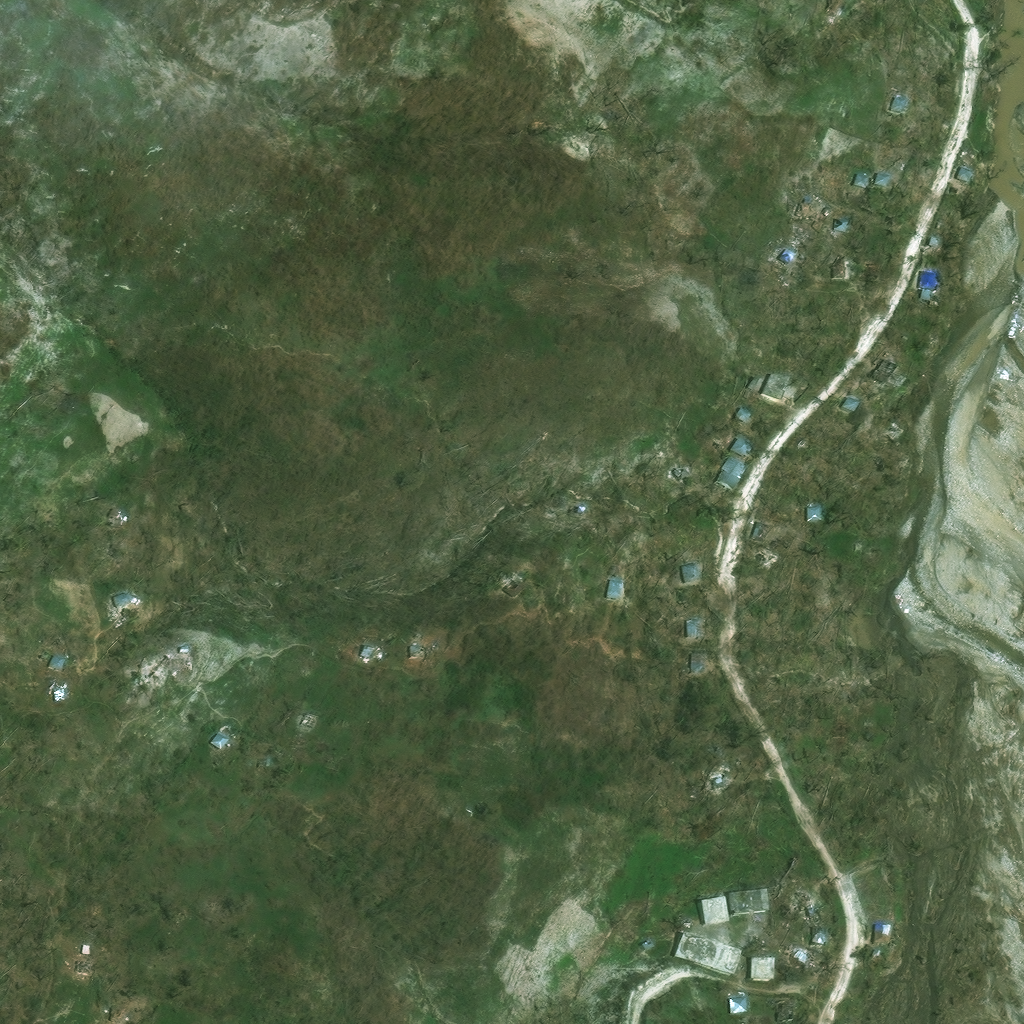destroyed: (139, 673, 154, 688), (720, 766, 733, 782), (759, 550, 771, 565), (961, 165, 973, 177), (701, 776, 712, 787), (128, 677, 137, 687)
major_damage: (760, 368, 791, 401), (859, 362, 884, 389), (670, 461, 690, 480), (343, 650, 362, 668), (796, 889, 811, 911), (869, 426, 887, 444), (388, 653, 403, 667), (792, 948, 805, 962), (829, 220, 841, 233), (779, 904, 790, 914)
minor_damage: (673, 928, 741, 975), (708, 456, 744, 494), (729, 888, 765, 912), (702, 894, 729, 924), (676, 555, 703, 582), (746, 956, 771, 981), (796, 501, 818, 523), (725, 433, 747, 455), (206, 731, 227, 750), (602, 578, 620, 600), (486, 588, 504, 607), (109, 591, 127, 609), (46, 653, 64, 670), (750, 522, 767, 540), (695, 654, 713, 670), (812, 3, 825, 23), (773, 250, 789, 265), (880, 100, 894, 117), (694, 614, 707, 632), (809, 926, 821, 945), (574, 499, 588, 514), (919, 270, 935, 283), (873, 926, 886, 941), (953, 176, 966, 191), (827, 264, 838, 280), (851, 173, 865, 185), (846, 543, 856, 553), (870, 926, 877, 934)
unclassified: (853, 261, 877, 283), (897, 319, 919, 337), (924, 232, 943, 251), (101, 542, 120, 561), (775, 1000, 791, 1021), (224, 808, 239, 827), (835, 715, 850, 734), (331, 438, 345, 455), (872, 157, 886, 172), (663, 80, 676, 92), (790, 930, 800, 944), (899, 130, 909, 140), (650, 933, 661, 942), (755, 1013, 764, 1023), (40, 634, 50, 643)
